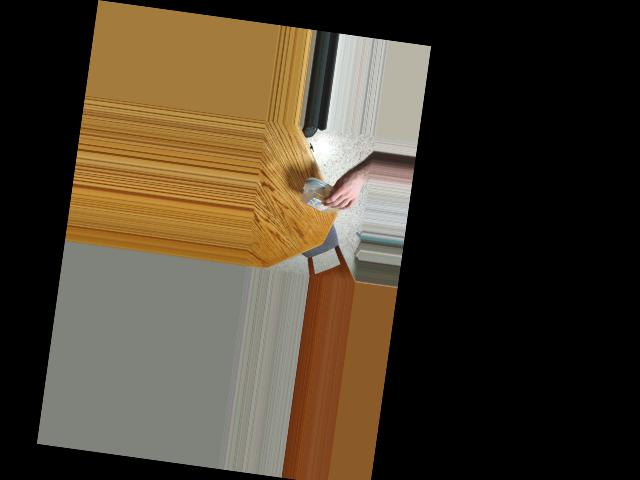cheese: (312, 177, 354, 214)
